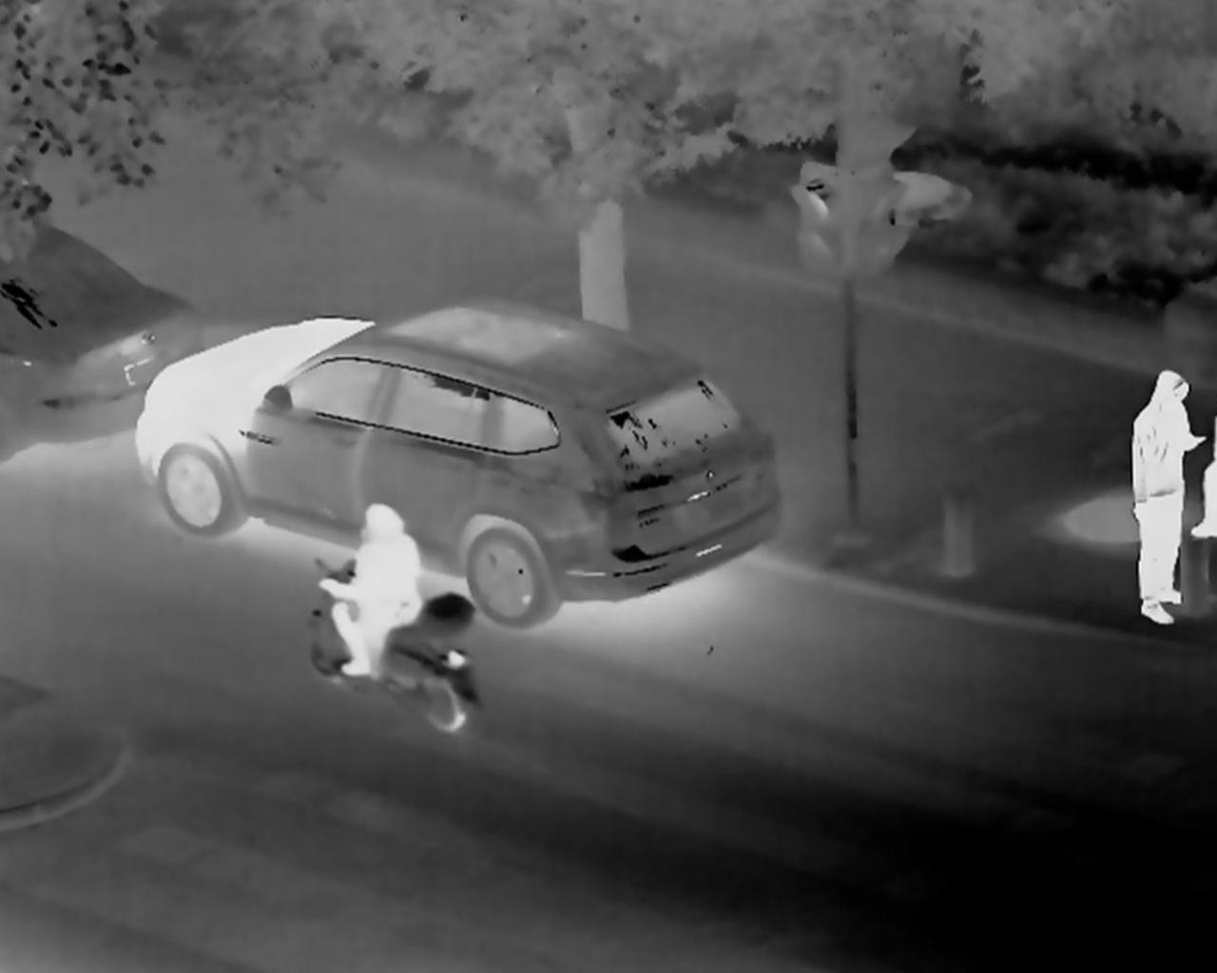person: (1122, 364, 1202, 628), (314, 497, 425, 677)
